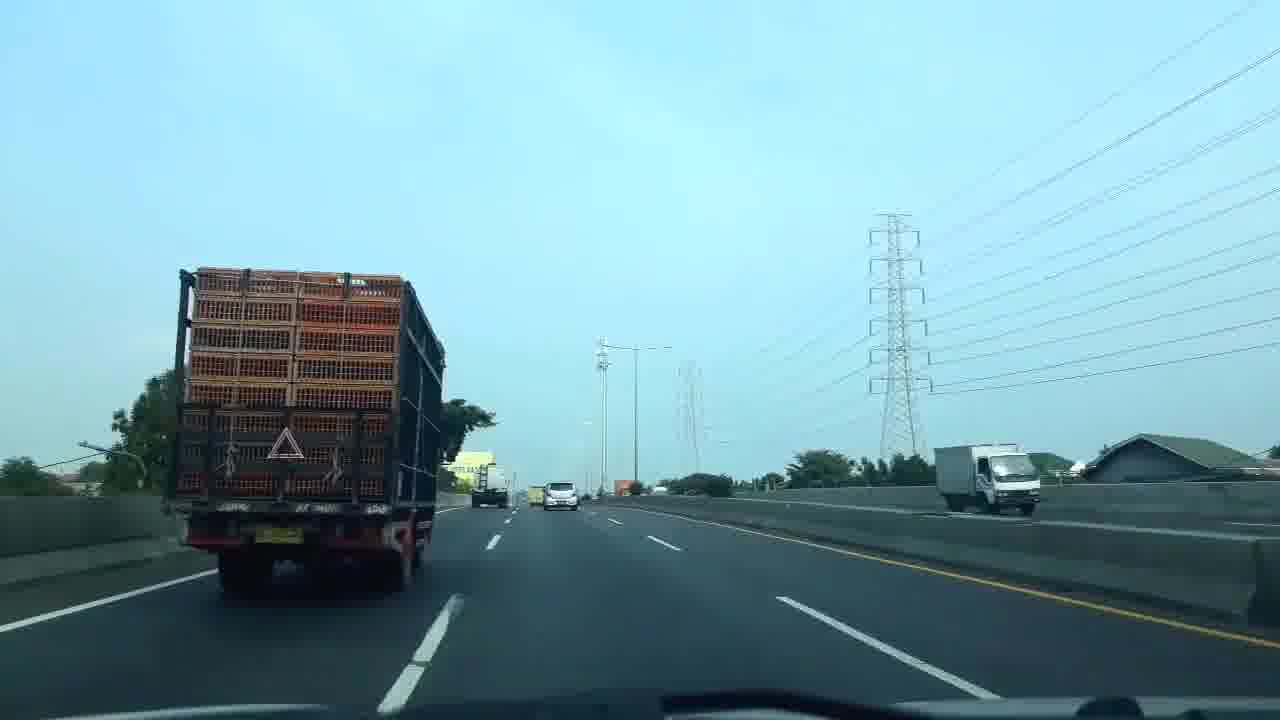plate_positive: (254, 526, 303, 545), (557, 501, 566, 505)
